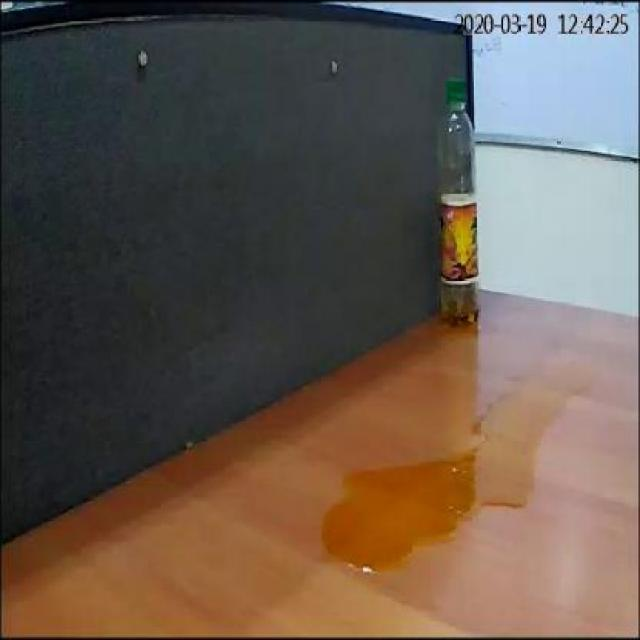spill: (322, 353, 592, 572)
